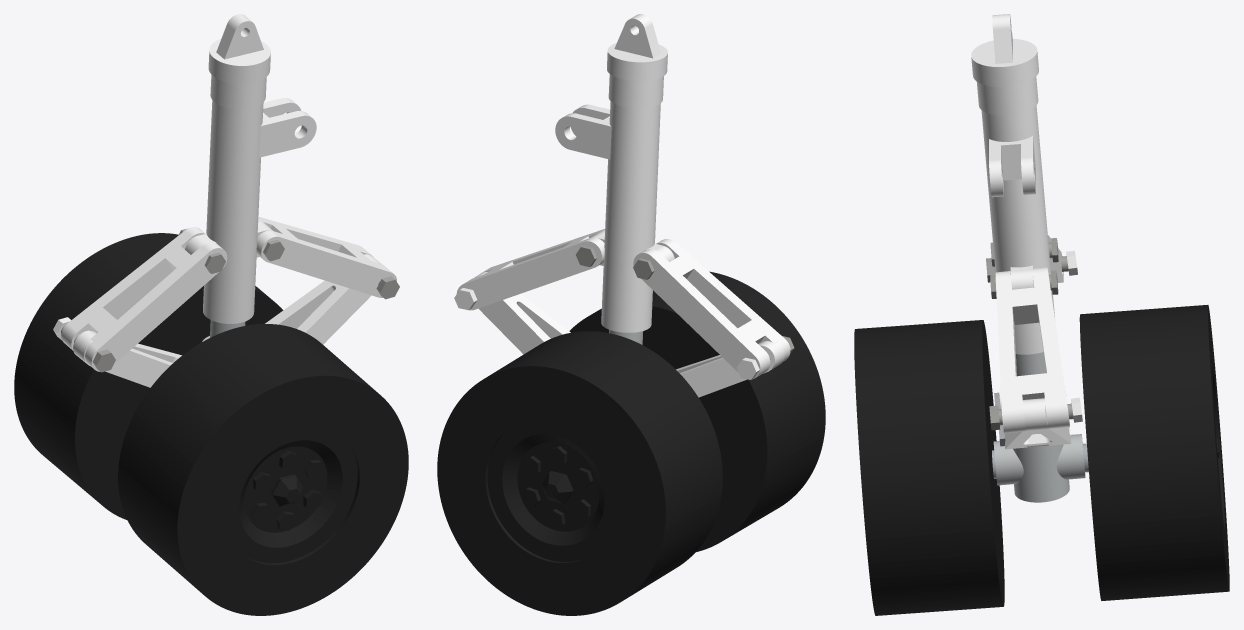
The model's file is Landing_Gear.glb.
3 renders of one model, left to right at view 1: azimuth 30°, elevation 25°; view 2: azimuth 150°, elevation 25°; view 3: azimuth 270°, elevation 25°, orthographic. The views are drawn at different scales.
Visible parts, largest first — view 1: Wheels_001, Wheels_002, LandingGEar_001, LandinngConnector_002, LandinngConnector_001, Connector2_001, Connector2_002; view 2: Wheels_002, Wheels_001, LandingGEar_001, LandinngConnector_002, LandinngConnector_001, Connector2_001, Connector2_002; view 3: Wheels_001, Wheels_002, LandingGEar_001, LandinngConnector_001, BUGGGY_001, Connector2_001.
Part boxes in pixels (box(x1,y1,x2,y2)): Wheels_001: box(118, 324, 408, 615); Wheels_002: box(14, 233, 283, 519); LandingGEar_001: box(185, 14, 316, 323); LandinngConnector_002: box(61, 227, 227, 371); LandinngConnector_001: box(256, 216, 396, 297); Connector2_001: box(265, 254, 381, 344); Connector2_002: box(73, 330, 181, 387); Wheels_002: box(437, 331, 722, 615); Wheels_001: box(569, 271, 825, 551); LandingGEar_001: box(555, 14, 674, 332); LandinngConnector_002: box(633, 239, 790, 379); LandinngConnector_001: box(456, 229, 604, 310); Connector2_001: box(474, 272, 570, 354); Connector2_002: box(676, 341, 784, 397); Wheels_001: box(854, 320, 1004, 615); Wheels_002: box(1079, 305, 1229, 600); LandingGEar_001: box(971, 14, 1054, 354); LandinngConnector_001: box(995, 267, 1069, 433); BUGGGY_001: box(993, 352, 1085, 502); Connector2_001: box(1004, 398, 1071, 449).
Size of the model in its own units: 175 by 296 by 170.
7 materials, 3 textured.
